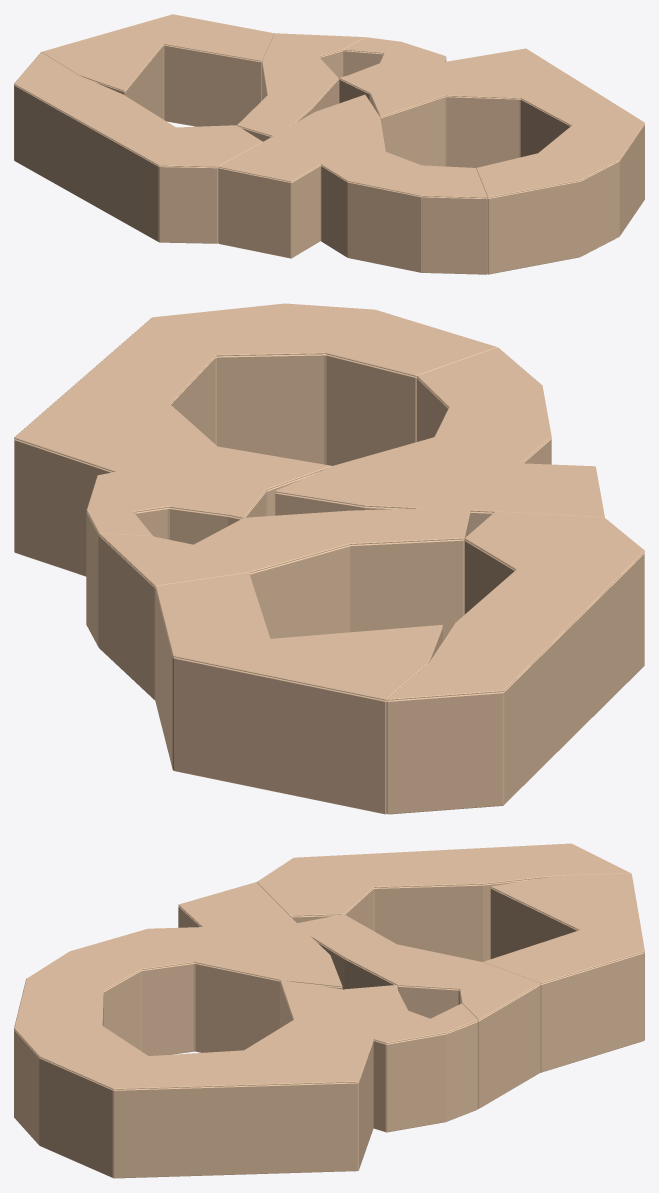
Rendered from seu_engineering_reuse_v03.glb.
3 views of the same model, one above another, from view 1: azimuth 30°, elevation 25°; view 2: azimuth 150°, elevation 25°; view 3: azimuth 270°, elevation 25° (orthographic). The views are drawn at different scales.
Visible parts, largest first — view 1: SEU_B_LEGACY_PLAN_C3__0002, SEU_B_LEGACY_PLAN_C3__0004, SEU_B_LEGACY_PLAN_C3__0001, SEU_B_LEGACY_PLAN_C3__0012, SEU_B_LEGACY_PLAN_C3__0003, SEU_B_LEGACY_PLAN_C3__0011, SEU_B_LEGACY_PLAN_C3__0010, SEU_B_LEGACY_PLAN_C3__0009, SEU_B_LEGACY_PLAN_C3__0005, SEU_B_LEGACY_PLAN_C3__0007, SEU_B_LEGACY_PLAN_C3__0006, SEU_B_LEGACY_PLAN_C3__0008; view 2: SEU_B_LEGACY_PLAN_C3__0001, SEU_B_LEGACY_PLAN_C3__0012, SEU_B_LEGACY_PLAN_C3__0002, SEU_B_LEGACY_PLAN_C3__0010, SEU_B_LEGACY_PLAN_C3__0003, SEU_B_LEGACY_PLAN_C3__0006, SEU_B_LEGACY_PLAN_C3__0011, SEU_B_LEGACY_PLAN_C3__0009, SEU_B_LEGACY_PLAN_C3__0005, SEU_B_LEGACY_PLAN_C3__0007, SEU_B_LEGACY_PLAN_C3__0008, SEU_B_LEGACY_PLAN_C3__0004; view 3: SEU_B_LEGACY_PLAN_C3__0002, SEU_B_LEGACY_PLAN_C3__0001, SEU_B_LEGACY_PLAN_C3__0003, SEU_B_LEGACY_PLAN_C3__0004, SEU_B_LEGACY_PLAN_C3__0011, SEU_B_LEGACY_PLAN_C3__0010, SEU_B_LEGACY_PLAN_C3__0009, SEU_B_LEGACY_PLAN_C3__0008, SEU_B_LEGACY_PLAN_C3__0005, SEU_B_LEGACY_PLAN_C3__0012, SEU_B_LEGACY_PLAN_C3__0006, SEU_B_LEGACY_PLAN_C3__0007.
Part boxes in pixels (x1=…): SEU_B_LEGACY_PLAN_C3__0002: x1=370, y1=95, x2=644, y2=274; SEU_B_LEGACY_PLAN_C3__0004: x1=218, y1=165, x2=487, y2=274; SEU_B_LEGACY_PLAN_C3__0001: x1=370, y1=48, x2=644, y2=198; SEU_B_LEGACY_PLAN_C3__0012: x1=14, y1=85, x2=218, y2=243; SEU_B_LEGACY_PLAN_C3__0003: x1=218, y1=94, x2=487, y2=198; SEU_B_LEGACY_PLAN_C3__0011: x1=14, y1=52, x2=262, y2=167; SEU_B_LEGACY_PLAN_C3__0010: x1=85, y1=44, x2=261, y2=126; SEU_B_LEGACY_PLAN_C3__0009: x1=41, y1=14, x2=274, y2=91; SEU_B_LEGACY_PLAN_C3__0005: x1=237, y1=33, x2=365, y2=136; SEU_B_LEGACY_PLAN_C3__0007: x1=339, y1=37, x2=446, y2=93; SEU_B_LEGACY_PLAN_C3__0006: x1=239, y1=50, x2=343, y2=141; SEU_B_LEGACY_PLAN_C3__0008: x1=339, y1=50, x2=446, y2=103; SEU_B_LEGACY_PLAN_C3__0001: x1=14, y1=303, x2=497, y2=490; SEU_B_LEGACY_PLAN_C3__0012: x1=386, y1=540, x2=644, y2=814; SEU_B_LEGACY_PLAN_C3__0002: x1=14, y1=354, x2=417, y2=576; SEU_B_LEGACY_PLAN_C3__0010: x1=155, y1=589, x2=442, y2=814; SEU_B_LEGACY_PLAN_C3__0003: x1=275, y1=347, x2=604, y2=517; SEU_B_LEGACY_PLAN_C3__0006: x1=99, y1=512, x2=470, y2=700; SEU_B_LEGACY_PLAN_C3__0011: x1=386, y1=511, x2=644, y2=700; SEU_B_LEGACY_PLAN_C3__0009: x1=155, y1=572, x2=442, y2=700; SEU_B_LEGACY_PLAN_C3__0005: x1=99, y1=506, x2=470, y2=586; SEU_B_LEGACY_PLAN_C3__0007: x1=86, y1=471, x2=266, y2=536; SEU_B_LEGACY_PLAN_C3__0008: x1=86, y1=492, x2=265, y2=647; SEU_B_LEGACY_PLAN_C3__0004: x1=275, y1=378, x2=551, y2=532; SEU_B_LEGACY_PLAN_C3__0002: x1=14, y1=982, x2=373, y2=1178; SEU_B_LEGACY_PLAN_C3__0001: x1=14, y1=979, x2=376, y2=1089; SEU_B_LEGACY_PLAN_C3__0003: x1=26, y1=882, x2=342, y2=991; SEU_B_LEGACY_PLAN_C3__0004: x1=103, y1=906, x2=342, y2=1055; SEU_B_LEGACY_PLAN_C3__0011: x1=256, y1=843, x2=630, y2=916; SEU_B_LEGACY_PLAN_C3__0010: x1=490, y1=888, x2=644, y2=1072; SEU_B_LEGACY_PLAN_C3__0009: x1=483, y1=873, x2=644, y2=983; SEU_B_LEGACY_PLAN_C3__0008: x1=373, y1=1021, x2=477, y2=1132; SEU_B_LEGACY_PLAN_C3__0005: x1=292, y1=914, x2=540, y2=1020; SEU_B_LEGACY_PLAN_C3__0012: x1=290, y1=878, x2=539, y2=961; SEU_B_LEGACY_PLAN_C3__0006: x1=314, y1=939, x2=540, y2=1108; SEU_B_LEGACY_PLAN_C3__0007: x1=343, y1=985, x2=478, y2=1043.
Size of the model in its own units: 187 by 32 by 203.
